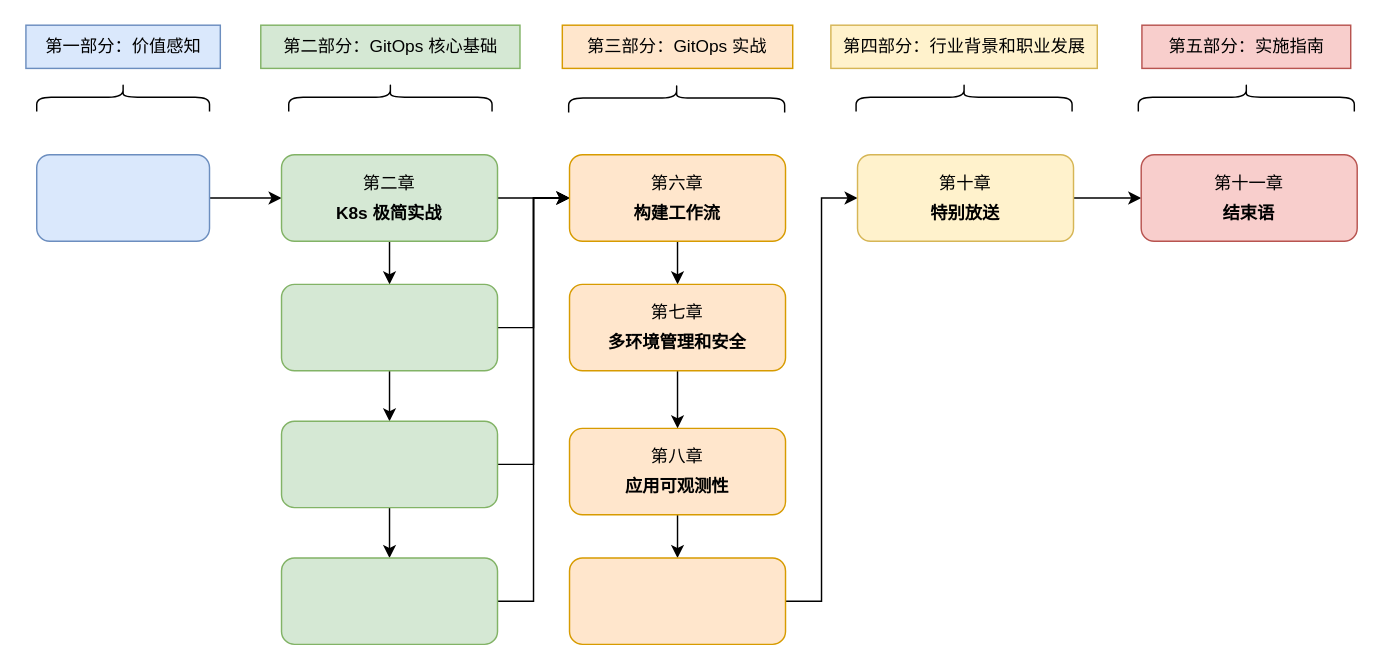
Image size: 1382x672. Some labels were removed from this diagram. Each missing label, with the centre of its shape:
第一章 从零上手 GitOps: the point at 122,197
第三章 容器化最佳实践: the point at 389,327
第九章 云原生开发新姿势: the point at 677,600
第五章 应用定义的两种选型: the point at 389,600
第四章 自动化镜像构建: the point at 389,464
